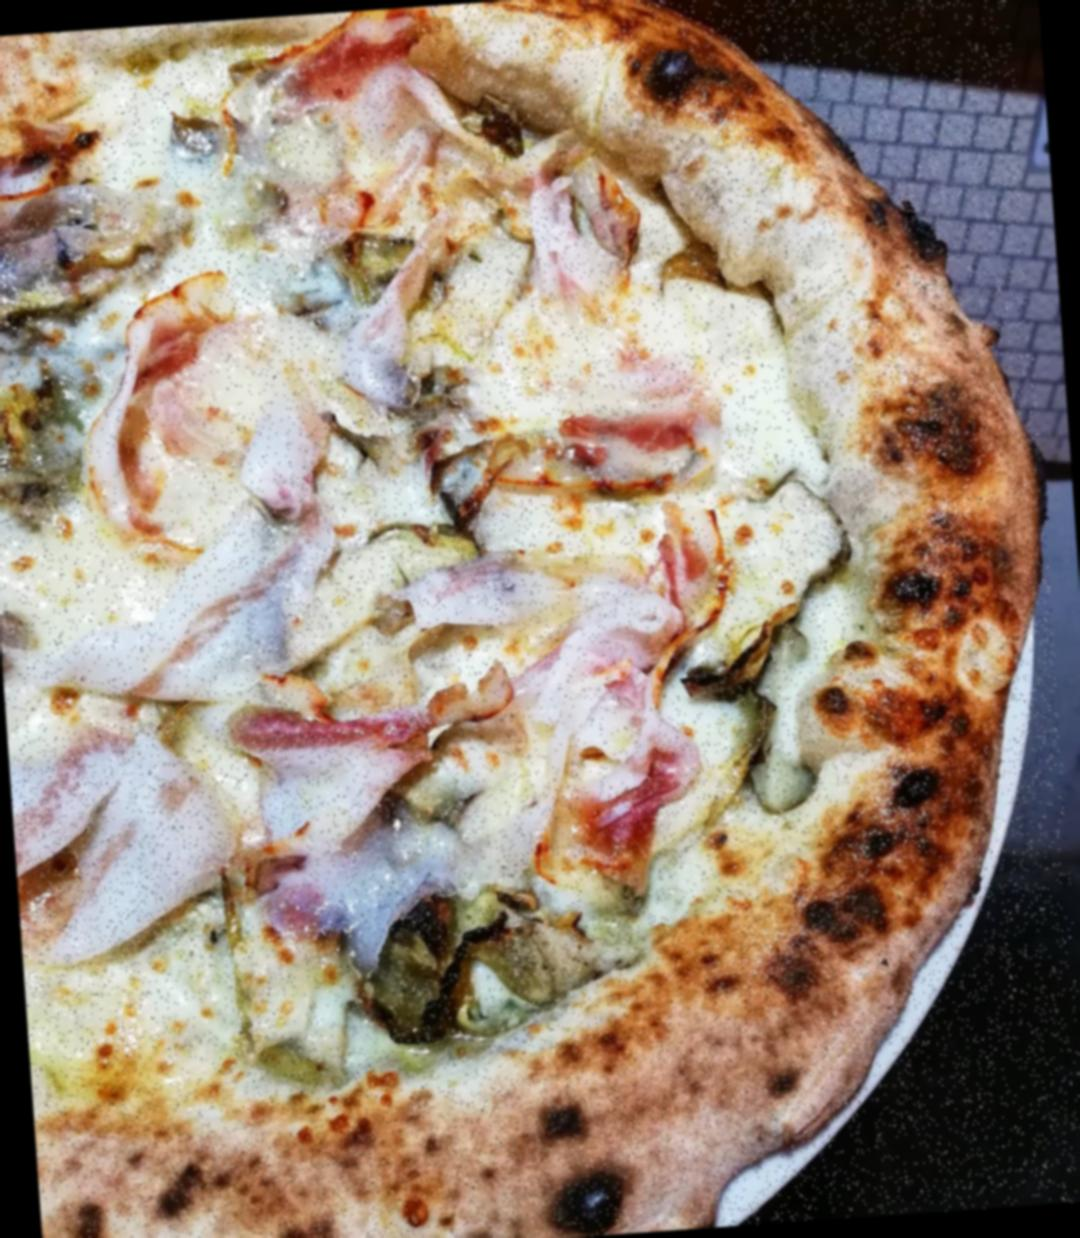Ham: (7, 727, 249, 970), (520, 611, 667, 900), (79, 271, 233, 532), (234, 703, 432, 855), (220, 7, 423, 135), (491, 408, 722, 503), (529, 188, 600, 313)
Pizza: (0, 0, 1080, 1238)
